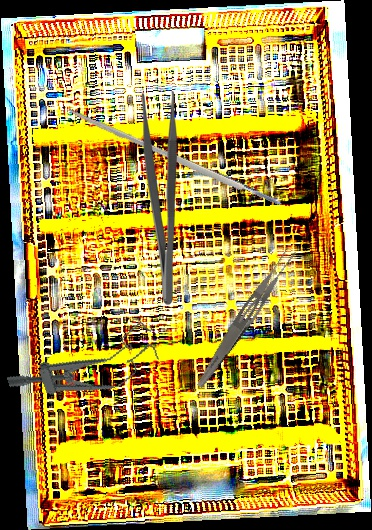Dressing Forceps: (193, 244, 300, 393), (140, 91, 178, 305)
Scalpel Handle: (65, 105, 285, 211)
Speculum: (3, 319, 166, 419)
